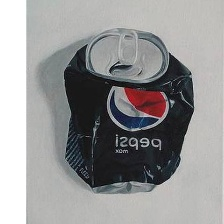can: (52, 21, 199, 201)
